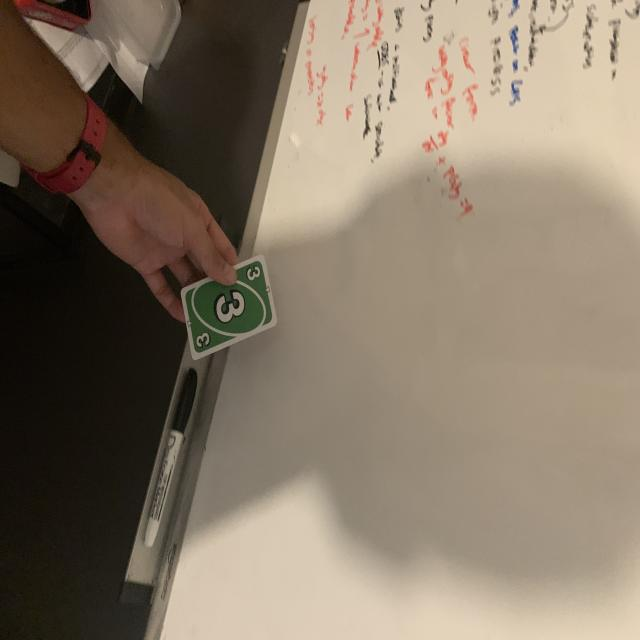lgreen-3: (242, 264, 263, 283)
